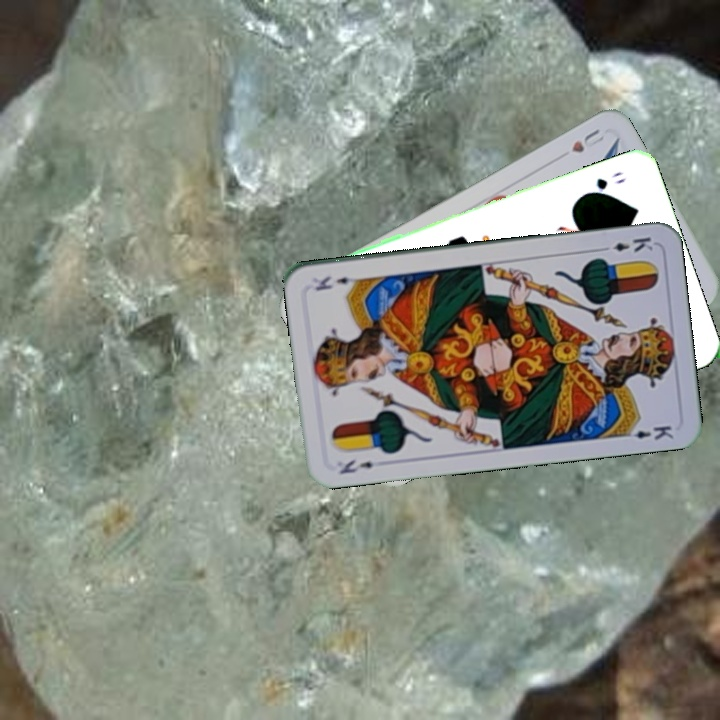EK: (596, 232, 656, 254), (336, 455, 376, 477)
GO: (578, 167, 629, 199)
HU: (567, 125, 607, 156)
